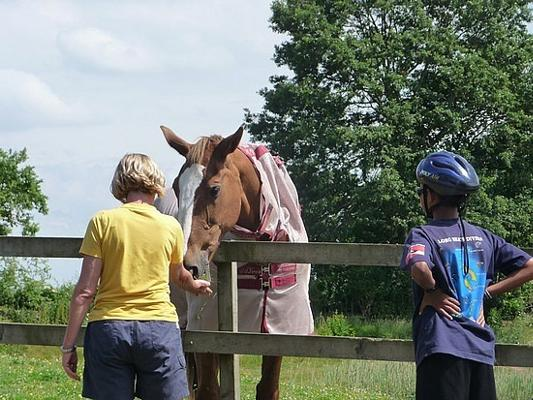person: (61, 154, 212, 400)
